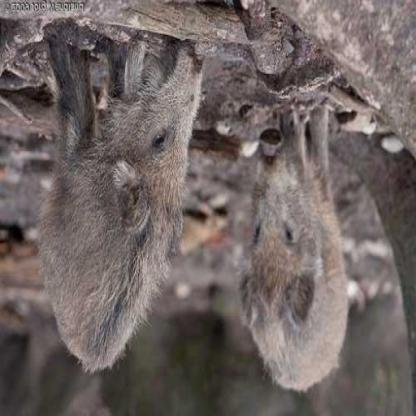boar: (3, 30, 223, 379), (237, 99, 352, 409)
